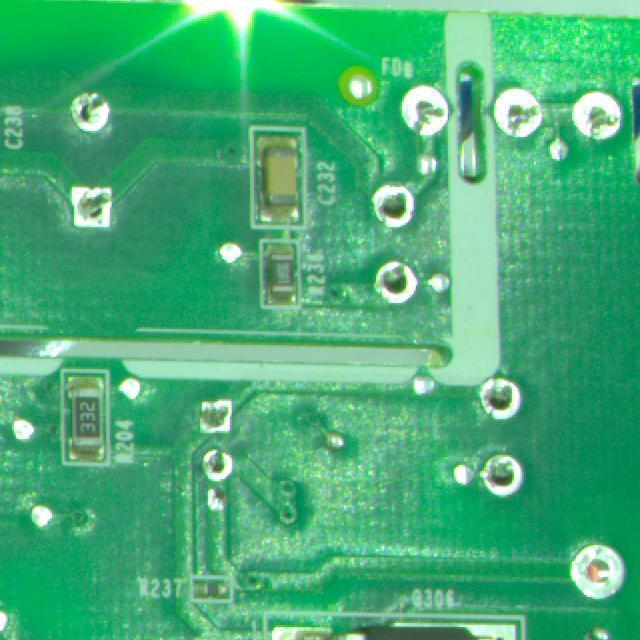Insufficient solder: (368, 249, 423, 316), (566, 542, 625, 603), (571, 86, 623, 153), (396, 80, 450, 138), (487, 89, 545, 143), (70, 174, 114, 241), (60, 86, 119, 133), (478, 449, 528, 504), (372, 180, 417, 237), (478, 376, 521, 424), (196, 395, 240, 438), (197, 446, 242, 480)
